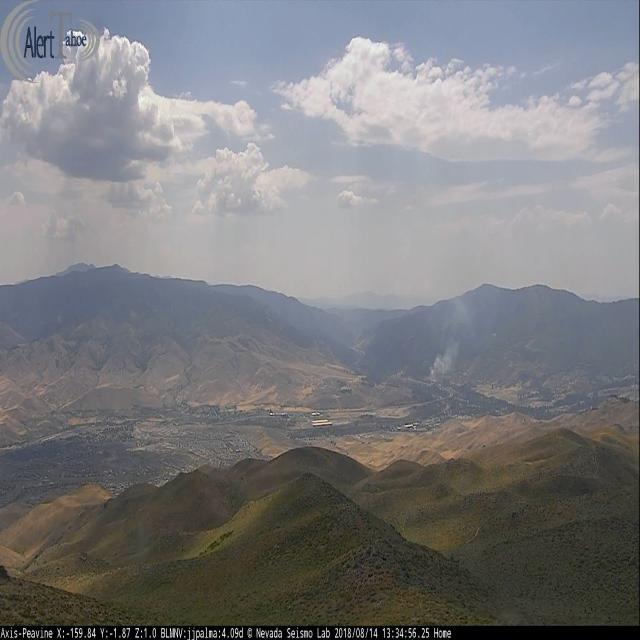smoke: (428, 337, 457, 388)
